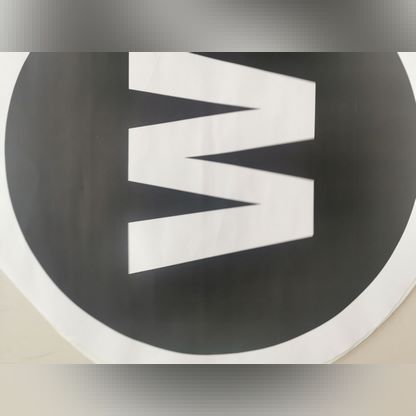W: (73, 40, 338, 283)
